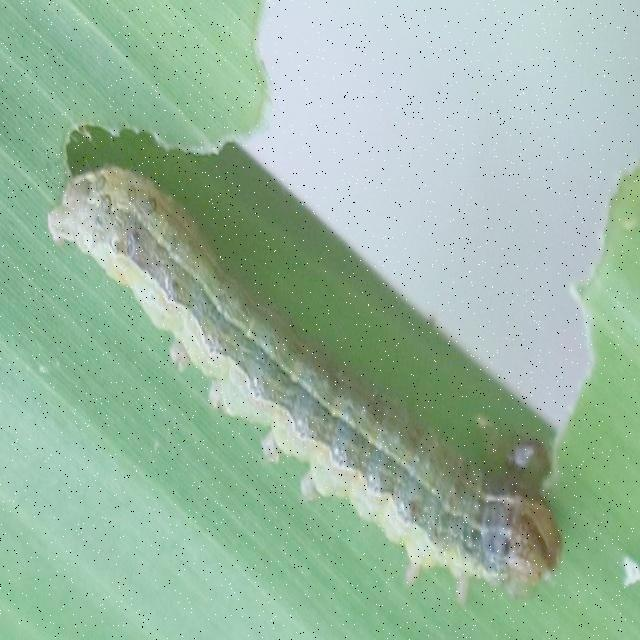worm: (47, 165, 563, 608)
